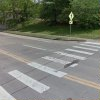crosswalk: (0, 40, 100, 99)
